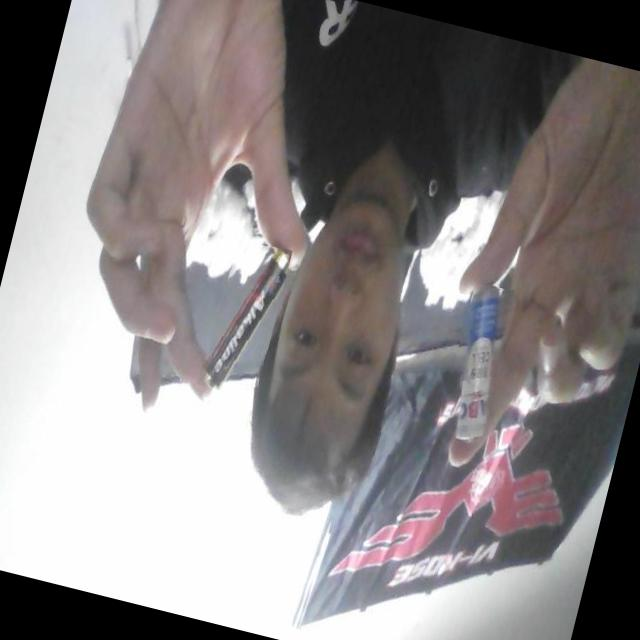Hazard: (196, 234, 292, 398), (433, 278, 518, 446)
